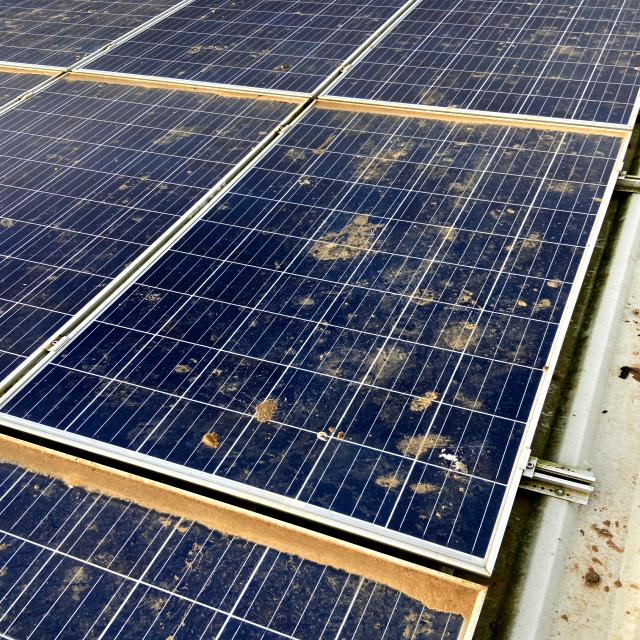bird: (368, 427, 496, 523), (305, 182, 423, 278), (49, 550, 187, 624), (462, 159, 585, 222), (410, 292, 508, 366), (487, 235, 568, 324), (208, 372, 311, 432), (301, 328, 401, 380), (113, 282, 209, 328), (402, 381, 476, 430), (165, 430, 264, 462), (306, 412, 358, 464)
